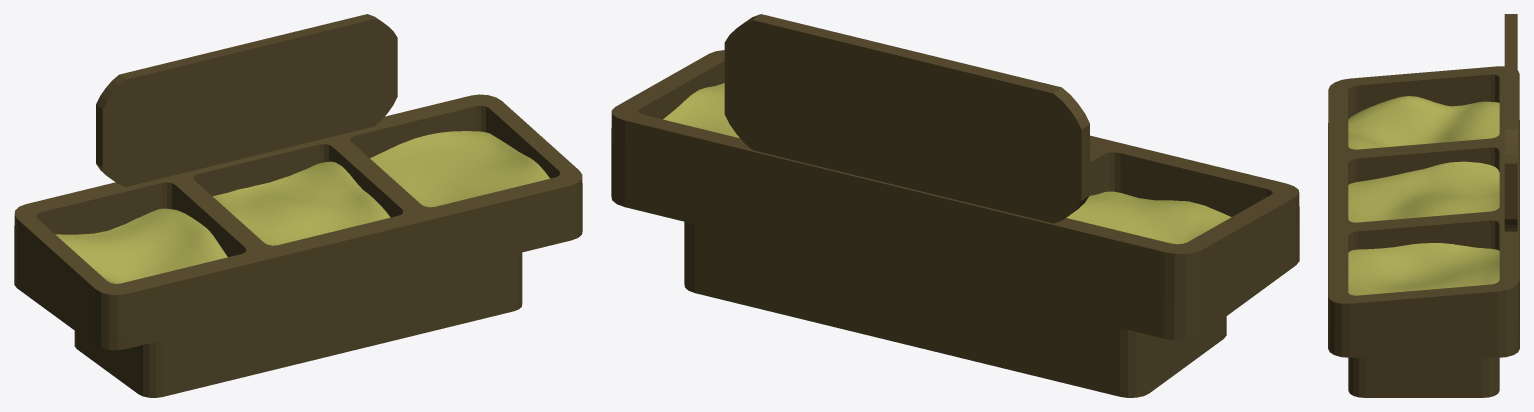
Rendered from ejder-devekusu_tezgah_1.fbx.
The picture shows the model from 3 angles, left to right: view 1: azimuth 30°, elevation 25°; view 2: azimuth 150°, elevation 25°; view 3: azimuth 270°, elevation 25°; orthographic projection. The views are drawn at different scales.
Visible parts, largest first — view 1: Plane.009, Cube.008, Plane.011, Plane.010; view 2: Plane.009, Cube.008, Plane.010, Plane.011; view 3: Plane.009, Plane.011, Plane.010, Cube.008.
Boxes of the visible parts, x1,y1,x2,y2 form: Plane.009: (14,94,582,350); Cube.008: (96,14,397,186); Plane.011: (55,131,549,283); Plane.010: (74,252,522,397); Plane.009: (611,50,1299,340); Cube.008: (724,14,1089,223); Plane.010: (684,221,1226,397); Plane.011: (663,83,1231,244); Plane.009: (1328,66,1519,357); Plane.011: (1348,96,1499,295); Plane.010: (1348,357,1499,397); Cube.008: (1504,14,1517,231).
Size of the model in its own units: 412 by 200 by 148.
